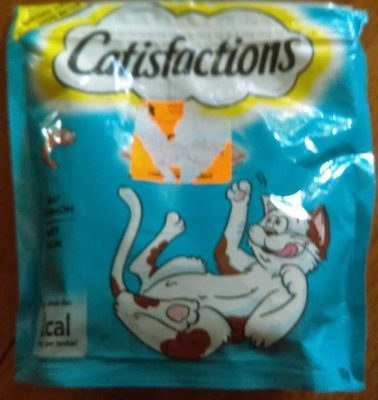Catisfactions Kattensnack zalige zalmsmaak maxi pack: (19, 20, 359, 380)
